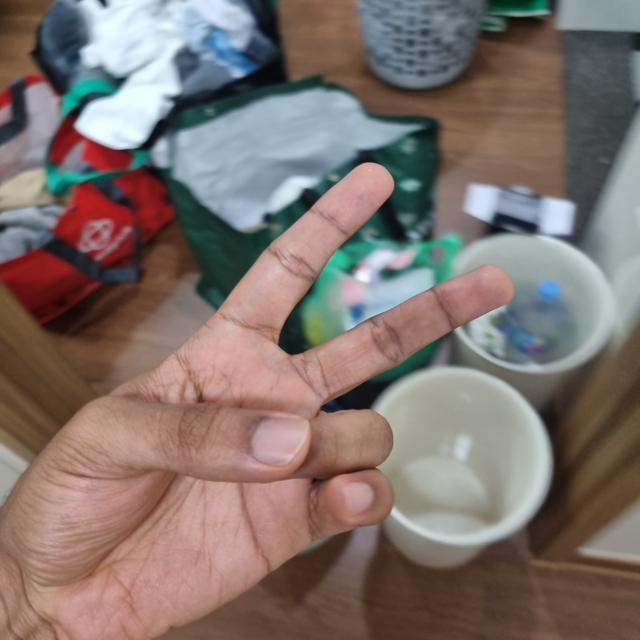Scissors: (0, 159, 510, 639)
